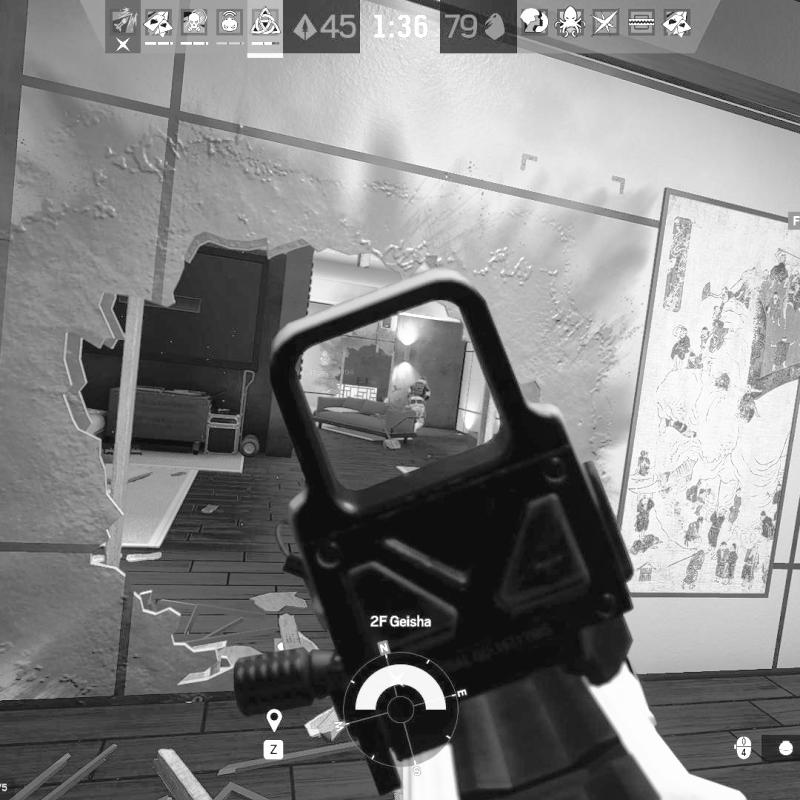Character: (402, 374, 434, 435)
Head: (417, 375, 427, 383)
